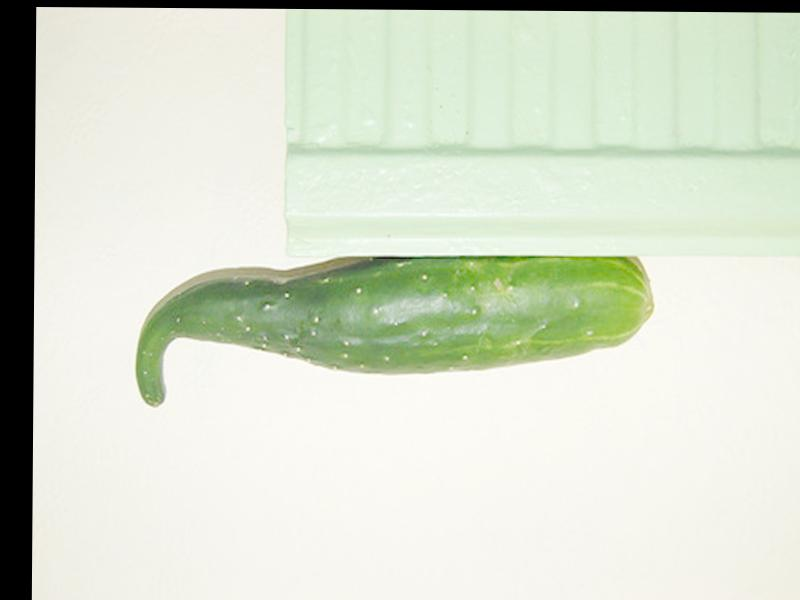Cucumber: (133, 252, 653, 409)
